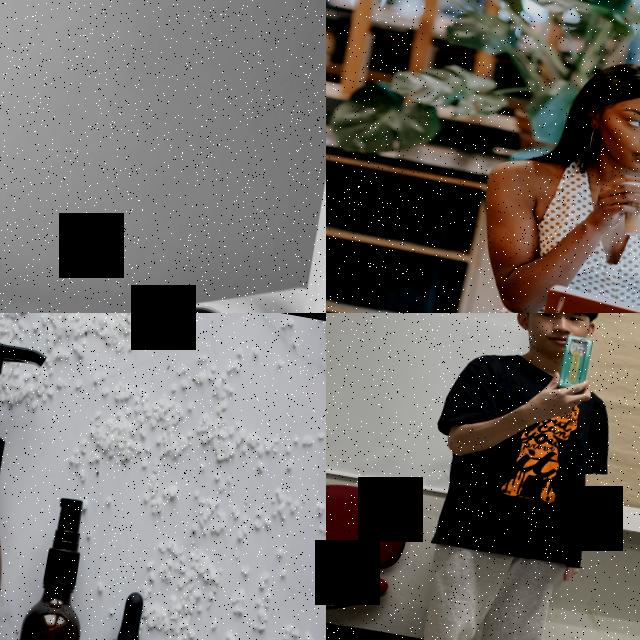can: (119, 257, 308, 313)
cup: (613, 177, 640, 245)
